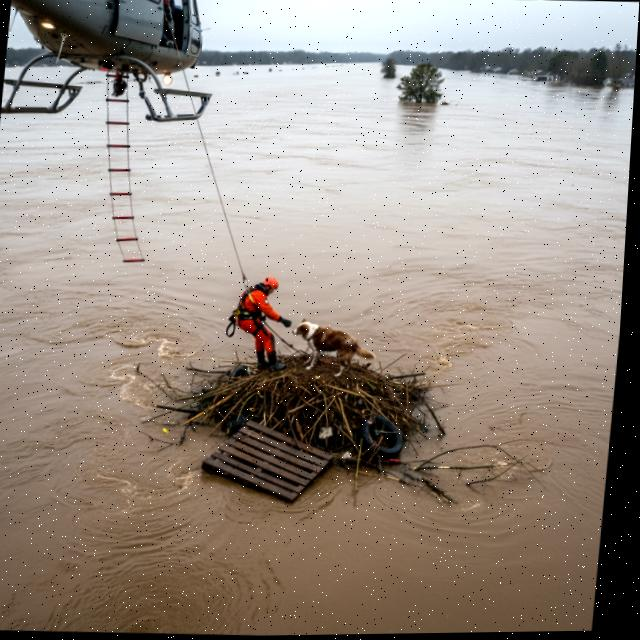dog: (287, 311, 381, 385)
rescuer: (221, 266, 298, 374)
